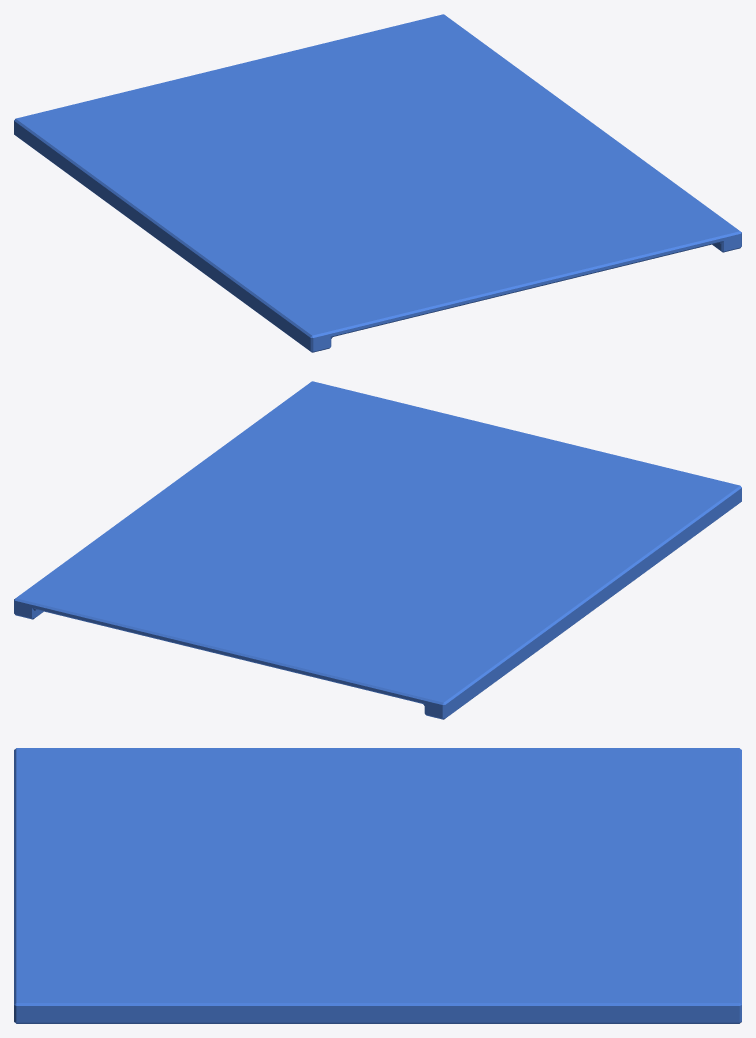
The model's file is G_OvenCover_01.fbx.
The picture shows the model from 3 angles, top to bottom: view 1: azimuth 30°, elevation 25°; view 2: azimuth 150°, elevation 25°; view 3: azimuth 270°, elevation 25°; orthographic projection. The views are drawn at different scales.
Visible parts, largest first — view 1: oven cover; view 2: oven cover; view 3: oven cover.
Boxes of the visible parts, x1,y1,x2,y2 form: oven cover: (14,14,741,352); oven cover: (14,381,741,719); oven cover: (14,748,741,1023).
Size of the model in its own units: 1037 by 39.46 by 1243.
